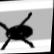not correct: (0, 11, 39, 50)
